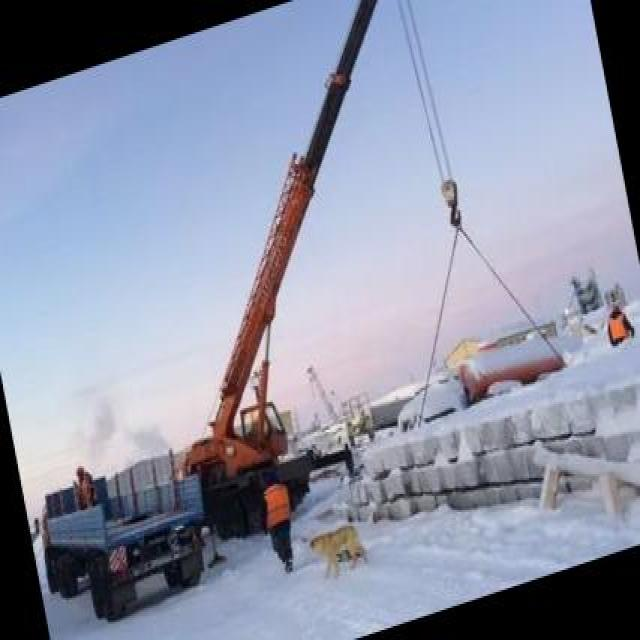crane: (104, 0, 507, 554)
